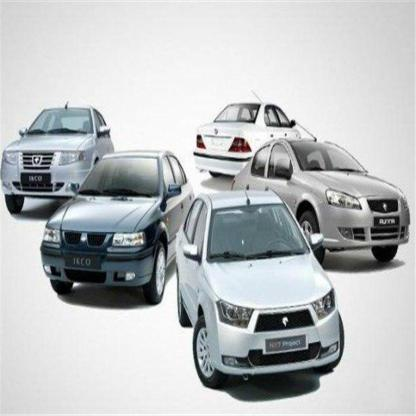Car: (181, 174, 330, 379), (50, 132, 196, 311), (241, 132, 416, 265), (0, 90, 129, 224), (203, 100, 306, 183)
